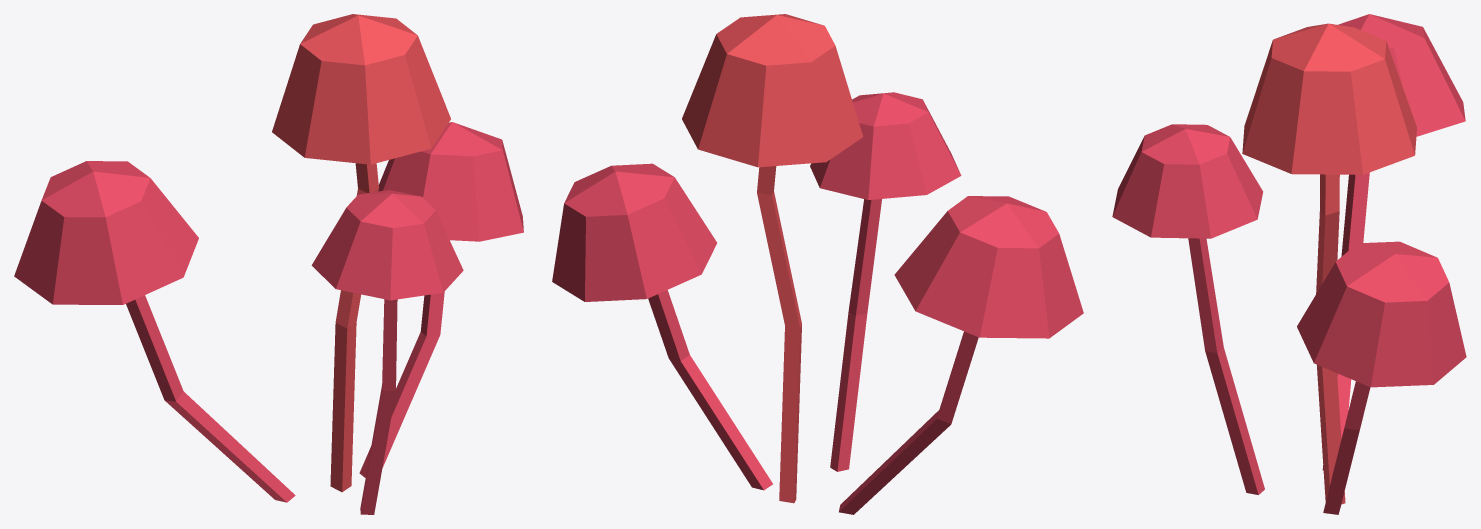
The model's file is Mushroom_c_04.fbx.
3 renders of one model, left to right at view 1: azimuth 30°, elevation 25°; view 2: azimuth 150°, elevation 25°; view 3: azimuth 270°, elevation 25°, orthographic. The views are drawn at different scales.
Visible parts, largest first — view 1: Mushroom_c_04; view 2: Mushroom_c_04; view 3: Mushroom_c_04.
Boxes of the visible parts, x1,y1,x2,y2 form: Mushroom_c_04: (14, 14, 523, 514); Mushroom_c_04: (552, 14, 1083, 514); Mushroom_c_04: (1112, 14, 1466, 514).
Size of the model in its own units: 0.4628 by 0.4251 by 0.2793.
